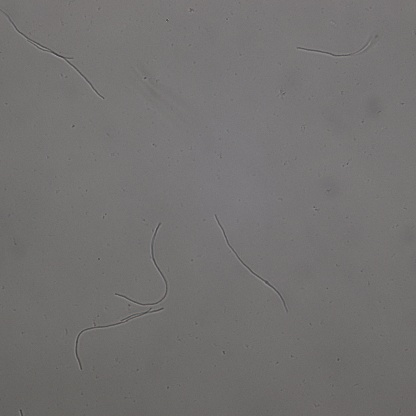Sensitive: (215, 215, 289, 313), (74, 308, 162, 369), (115, 221, 169, 306), (30, 42, 104, 99), (1, 9, 74, 59), (297, 35, 375, 57)
